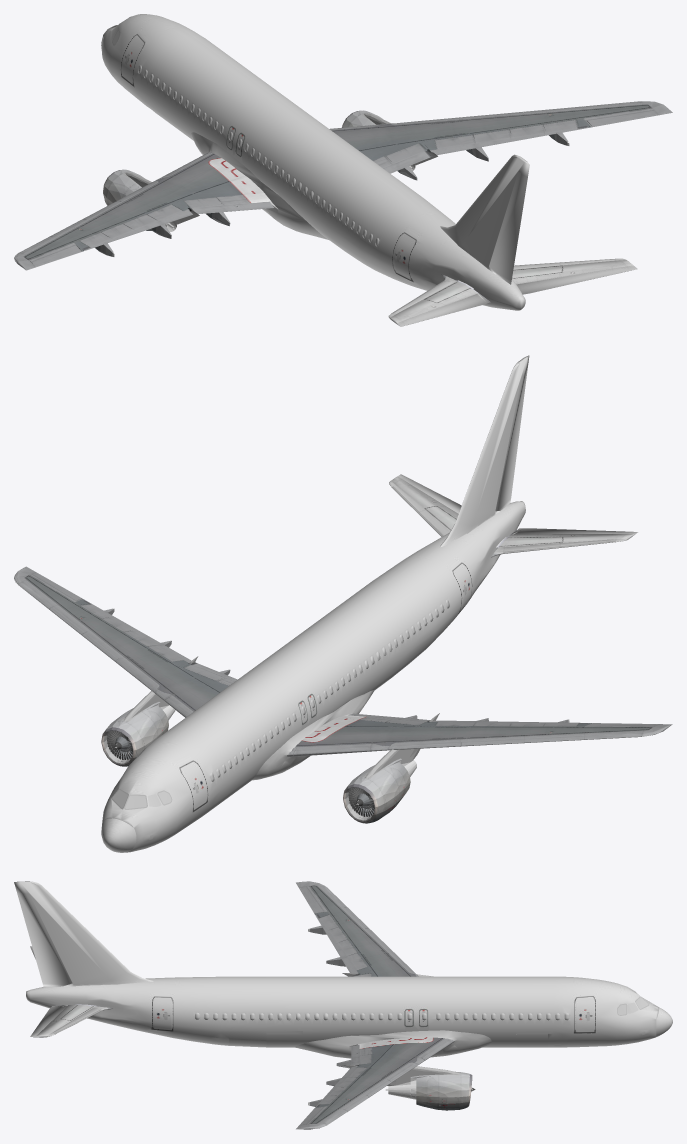
3 views of the same model, one above another, from view 1: azimuth 30°, elevation 25°; view 2: azimuth 150°, elevation 25°; view 3: azimuth 270°, elevation 25° (orthographic). The views are drawn at different scales.
Parts seen in each view (by area): view 1: Fuselage, Wings, Vstab, Hstabs, Rudder, Belly, Windows, ElevatorR, FlapR2, ElevatorL, FlapL1, FlapL2 (+5 smaller); view 2: Fuselage, Wings, Vstab, Hstabs, Belly, Rudder, Windows, Nose, Intake, Intake_001, Nacelle, CockpitWindows; view 3: Fuselage, Wings, Vstab, Belly, Rudder, Windows, Hstabs, Nacelle_001, EngineR, DoorR1, DoorR4, Pylon_001 (+4 smaller).
Boxes of the visible parts, x1,y1,x2,y2 form: Fuselage: (101,14,525,310); Wings: (19,101,654,262); Vstab: (440,154,529,274); Hstabs: (388,258,633,323); Rudder: (489,172,527,284); Belly: (191,132,328,239); Windows: (138,65,379,246); ElevatorR: (516,265,637,294); FlapR2: (427,126,589,155); ElevatorL: (397,293,490,326); FlapL1: (188,200,274,214); FlapL2: (83,208,192,250); Fuselage: (102,501,525,852); Wings: (18,573,654,756); Vstab: (440,355,529,546); Hstabs: (389,476,634,557); Belly: (252,690,374,780); Rudder: (495,370,527,511); Windows: (210,599,449,781); Nose: (101,818,136,852); Intake: (343,777,385,823); Intake_001: (101,720,144,766); Nacelle: (353,767,400,819); CockpitWindows: (111,781,171,808); Fuselage: (26,976,659,1047); Wings: (306,886,454,1124); Vstab: (14,881,153,986); Belly: (294,1030,491,1058); Rudder: (17,893,72,986); Windows: (195,1012,569,1020); Hstabs: (36,1004,112,1037); Nacelle_001: (437,1071,459,1110); EngineR: (410,1074,436,1109); DoorR1: (577,995,594,1032); DoorR4: (154,995,171,1030); Pylon_001: (345,1065,460,1086).
Bounding box in the file's own units: 33.91 × 11.63 × 38.27.
Materials: 28 (6 with a texture image).
